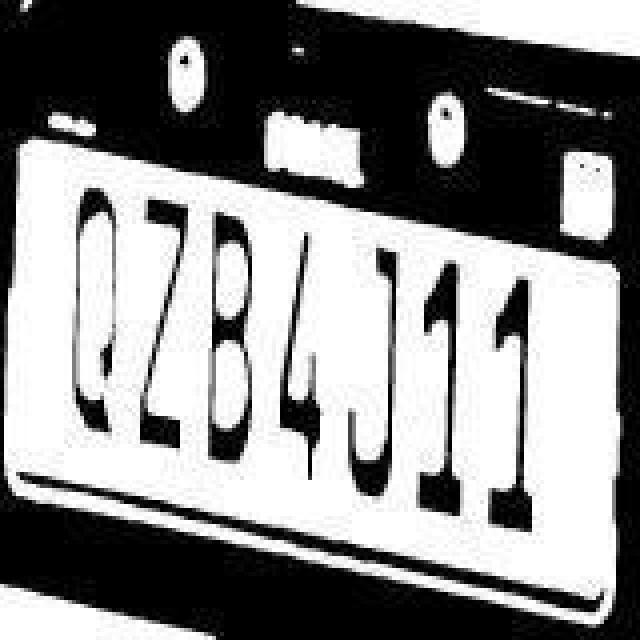1: (486, 268, 554, 548), (414, 260, 474, 532)
4: (270, 222, 346, 498)
B: (192, 208, 264, 480)
J: (342, 240, 410, 512)
Q: (60, 194, 132, 462)
Z: (128, 188, 192, 460)
